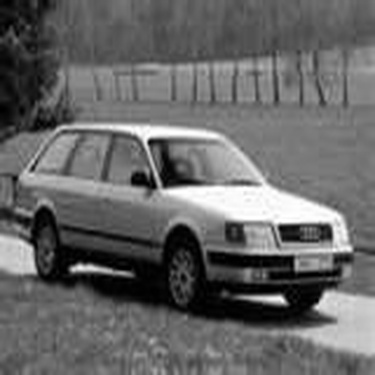car: (2, 100, 358, 316)
